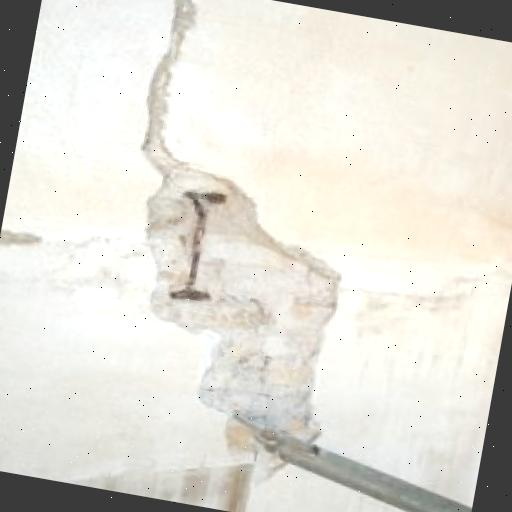spalling: (139, 0, 341, 477)
